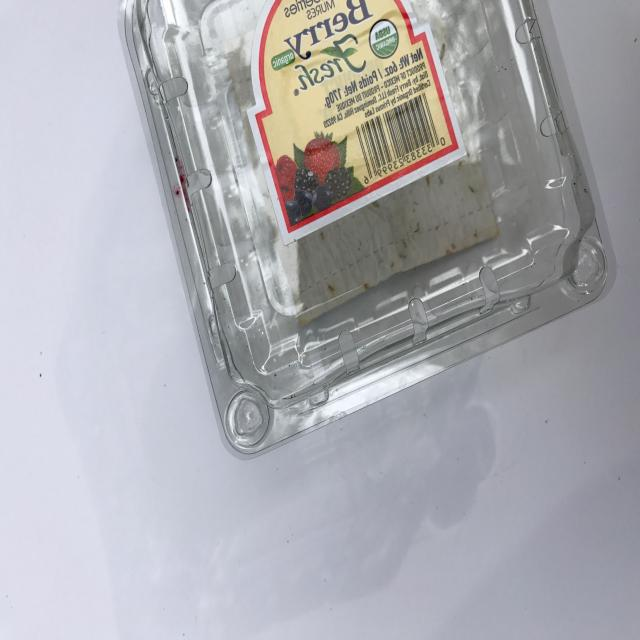plastic: (118, 0, 617, 459)
